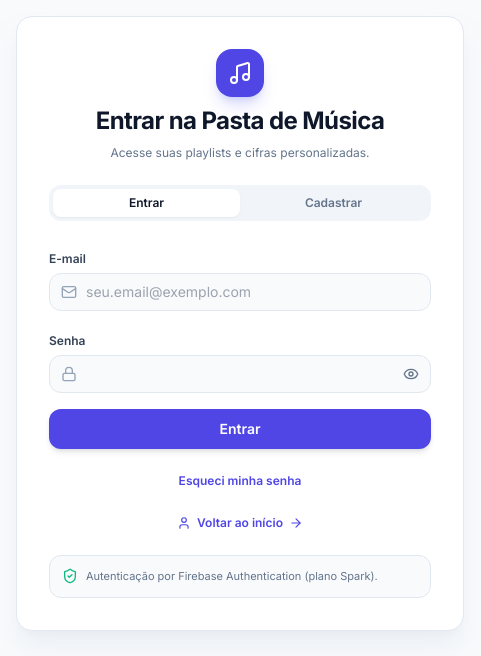
Test case: Autenticação › envia solicitação de recuperação de senha
Click the button "Esqueci minha senha" at x=240, y=481, box top-left (49, 473), bottom-right (431, 489)
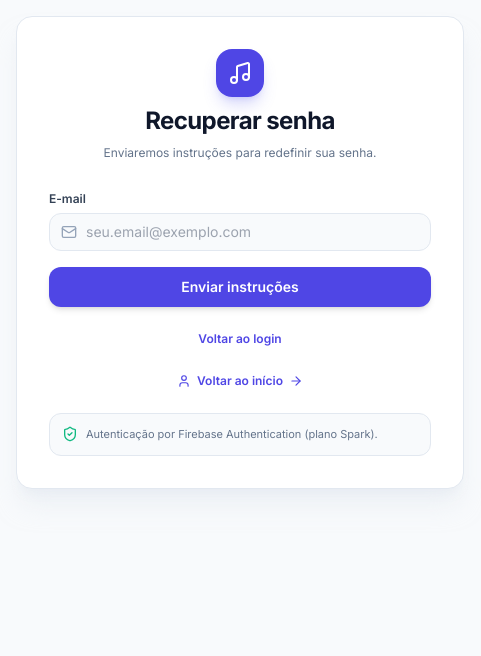
Type "music@example.com" into the field labelled "E-mail" at x=240, y=232, box top-left (49, 213), bottom-right (431, 251)
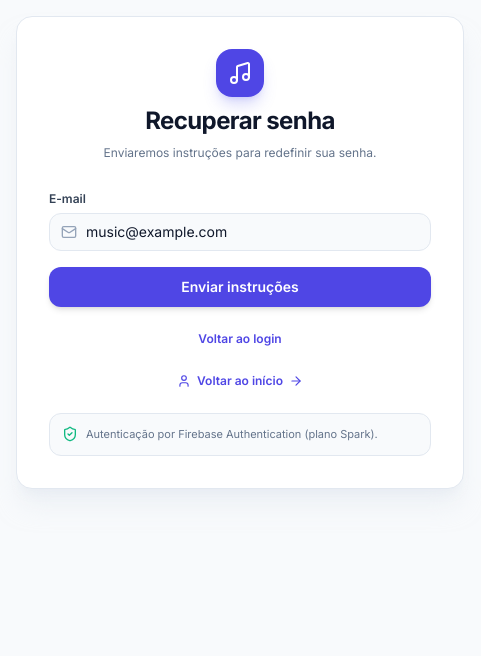
Click the button "Enviar instruções" at x=240, y=287, box top-left (49, 267), bottom-right (431, 307)
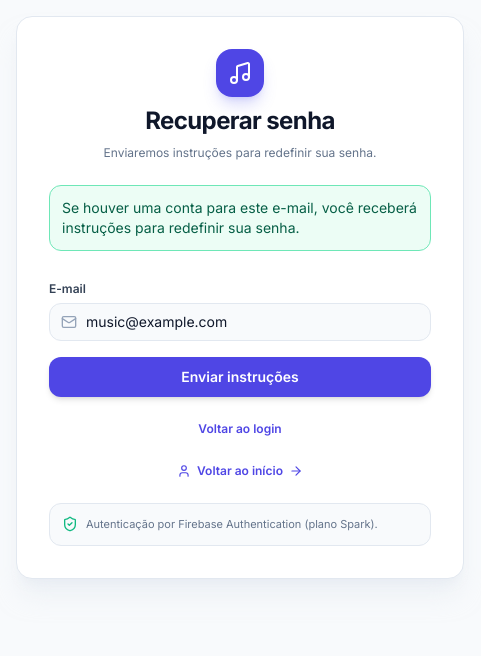
Check: the message shows "receberá instruções", box top-left (62, 199), bottom-right (417, 236)
